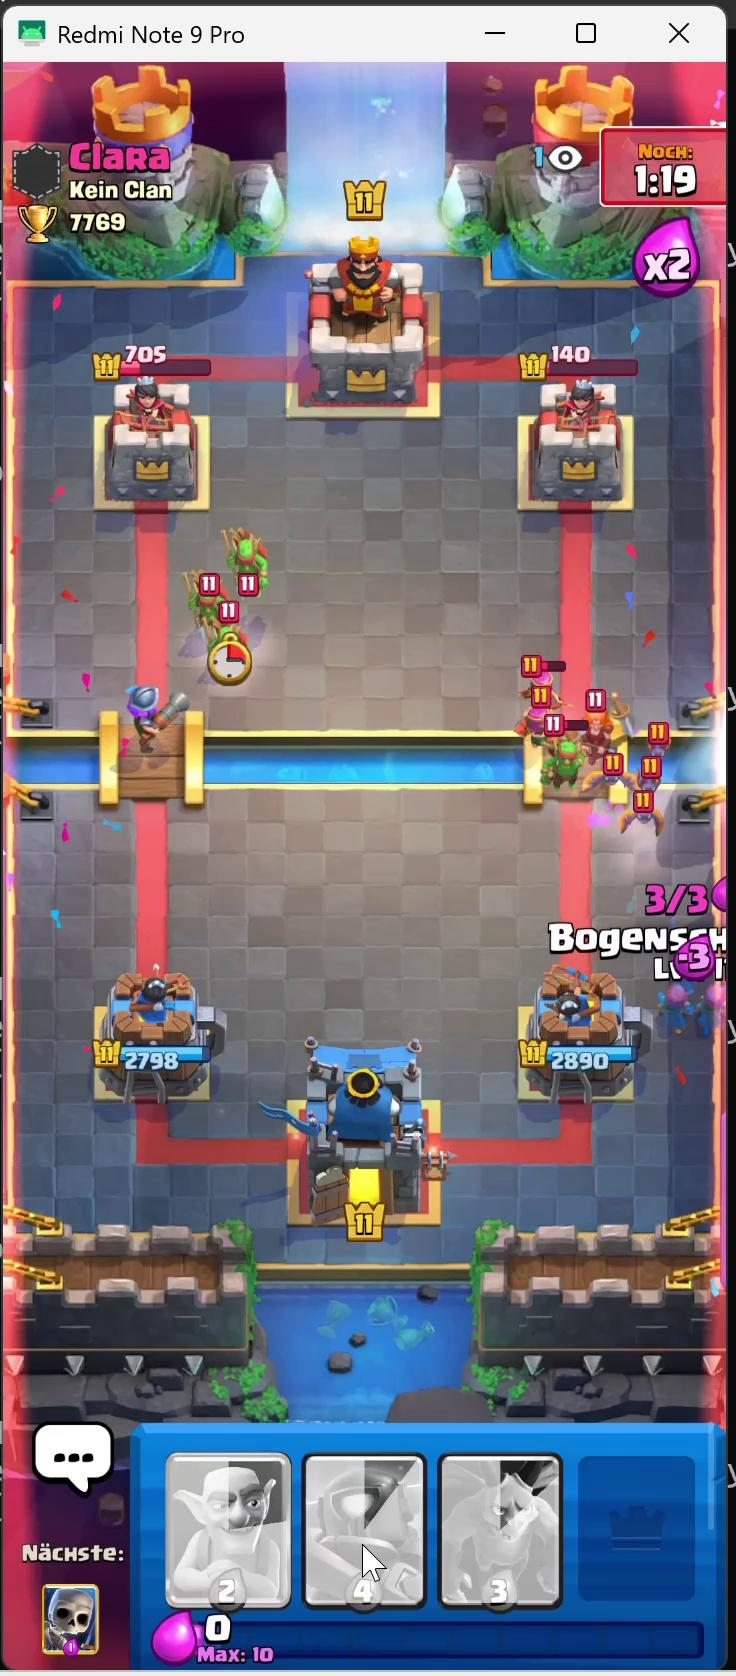archere: (527, 695, 551, 746), (524, 666, 554, 698)
bat: (600, 750, 631, 796), (626, 789, 659, 826), (638, 756, 664, 792), (649, 726, 673, 761)
gobelin_lances: (189, 627, 256, 677), (547, 736, 582, 781), (231, 544, 265, 586), (193, 572, 220, 615)
mousquetaire: (123, 685, 179, 751)
valkyrie: (588, 693, 615, 750)
